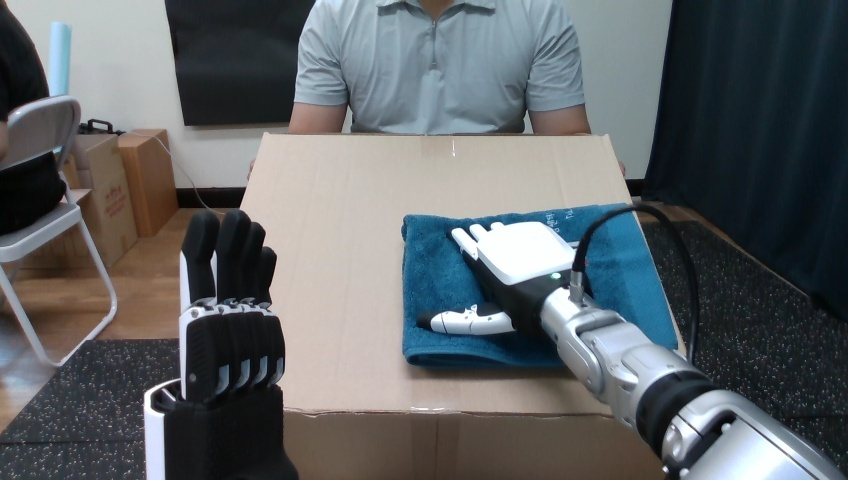left robot hand: (659, 204, 847, 476), (144, 210, 297, 478)
